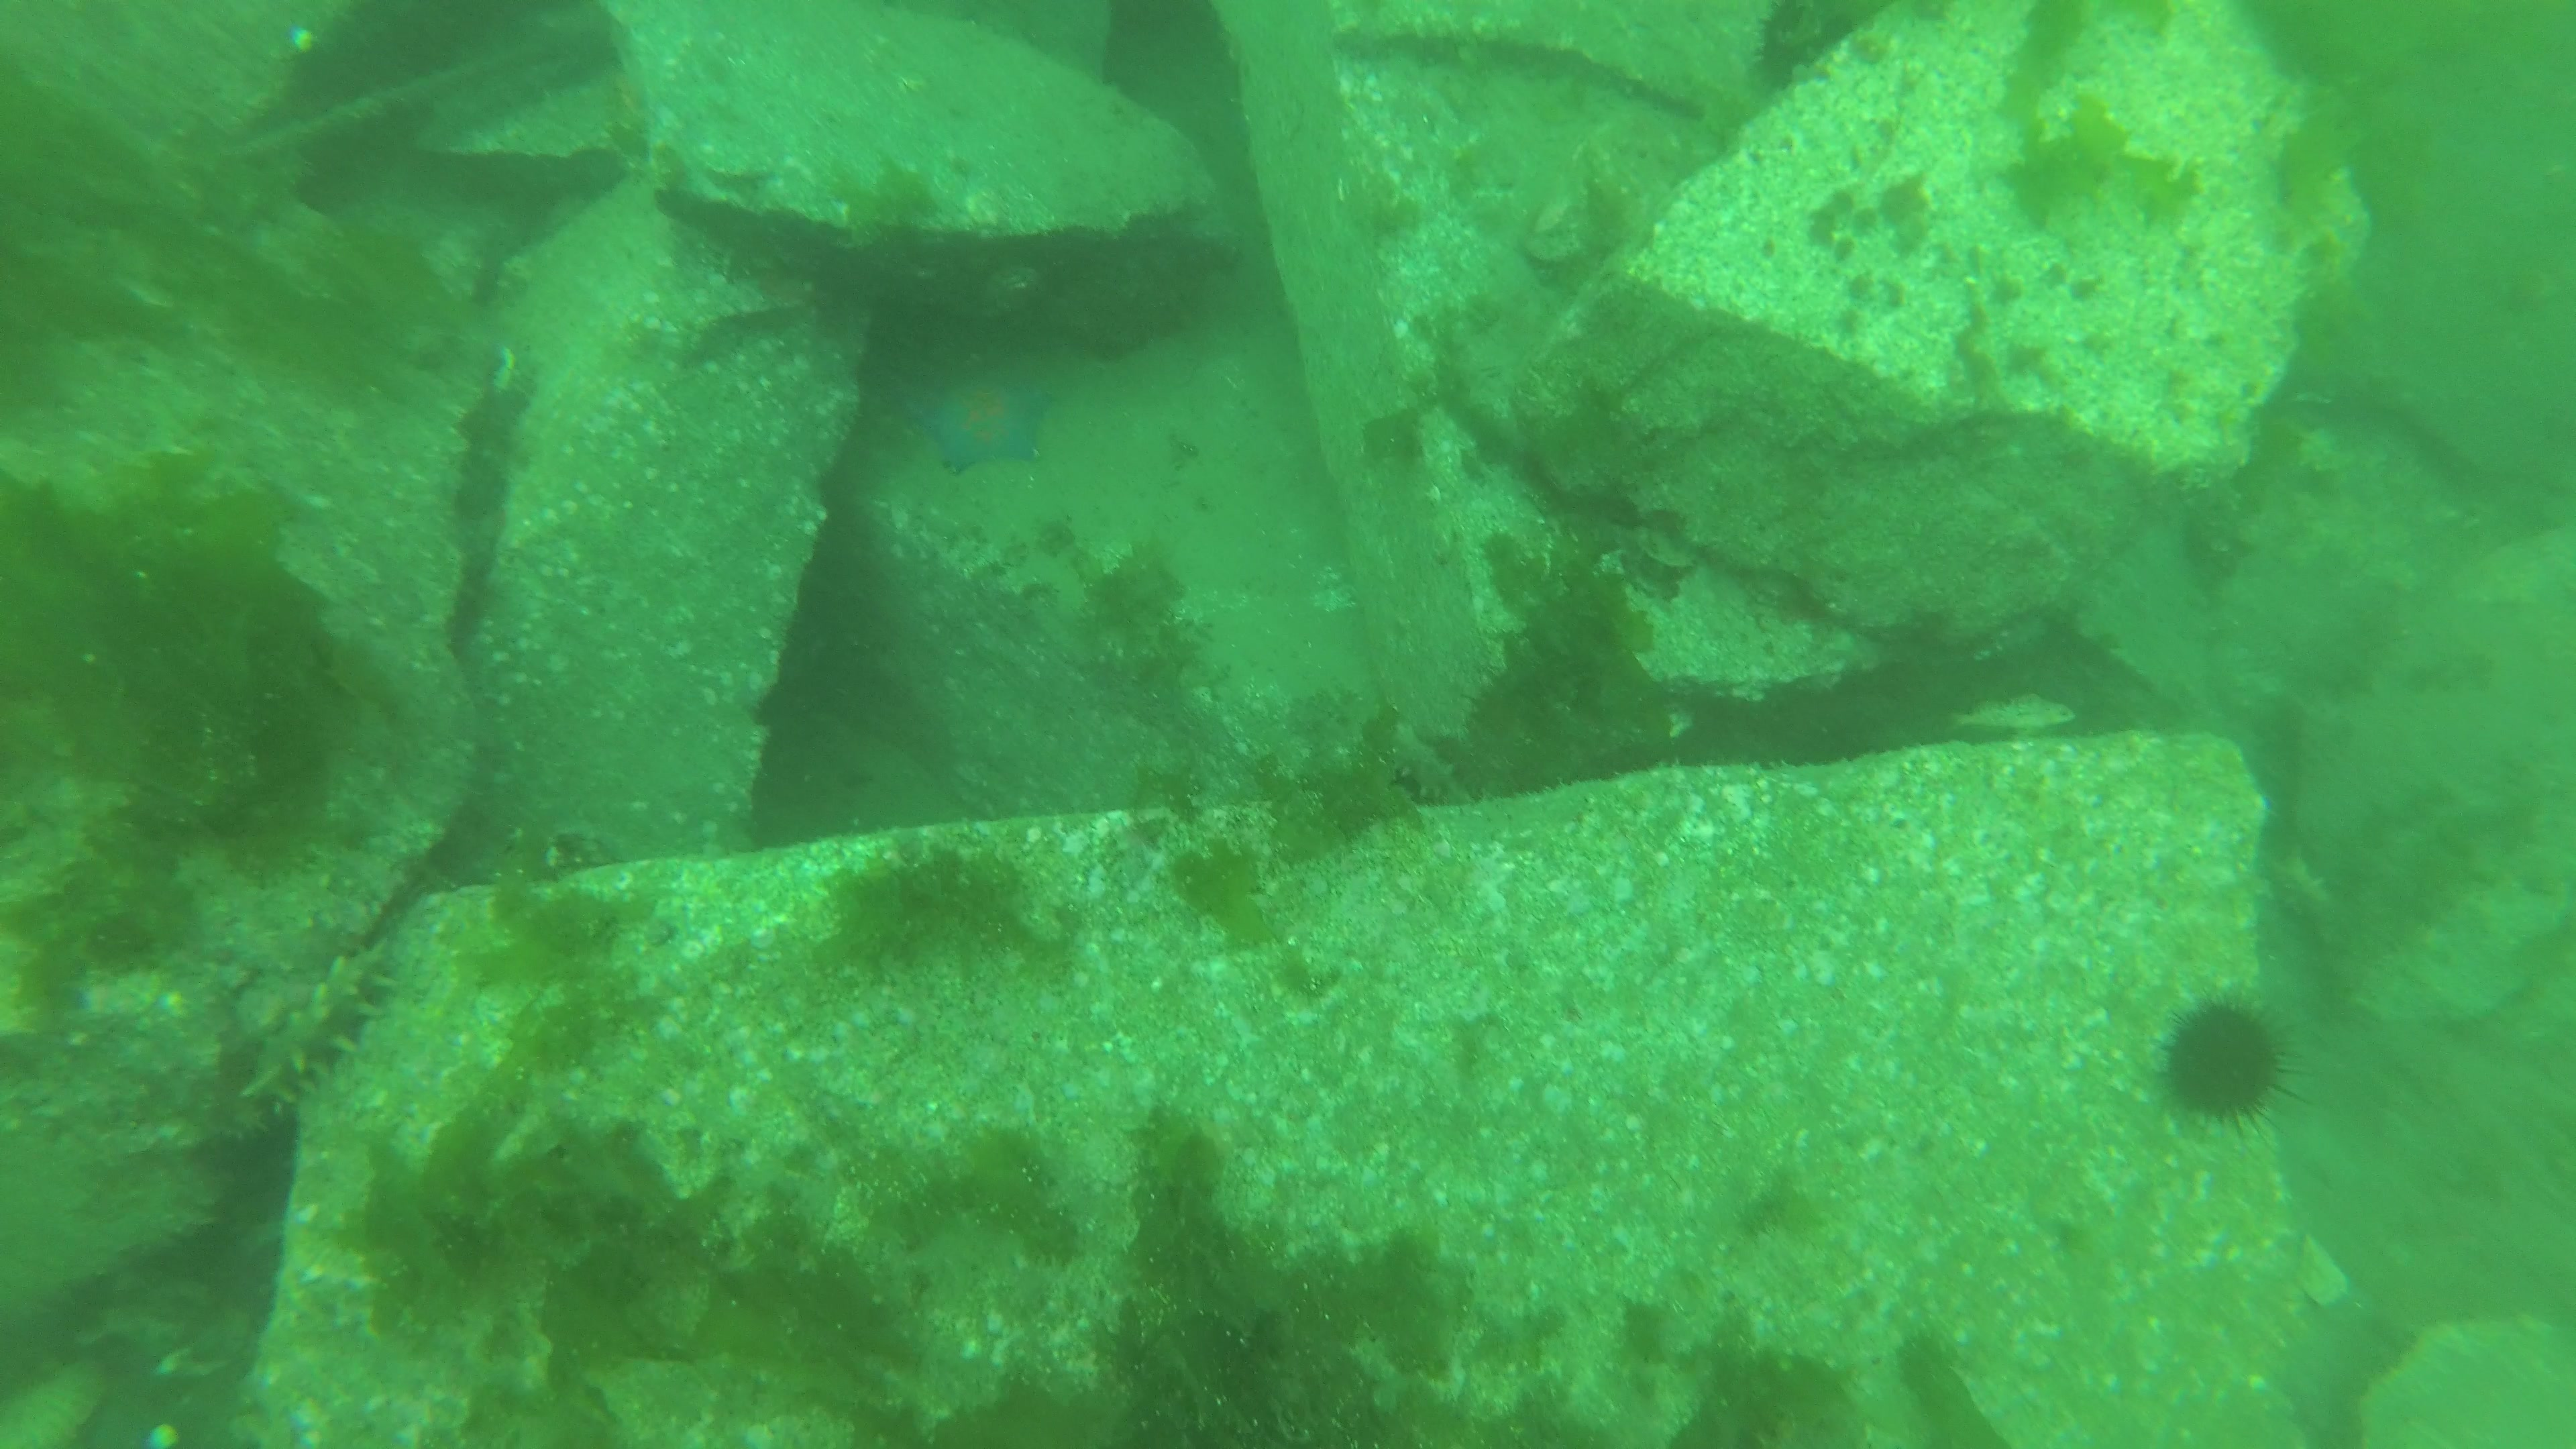echinus: (2162, 991, 2302, 1132), (1755, 0, 1879, 92)
holothurian: (239, 938, 405, 1113), (1389, 720, 1483, 809)
starfish: (909, 370, 1054, 478)
